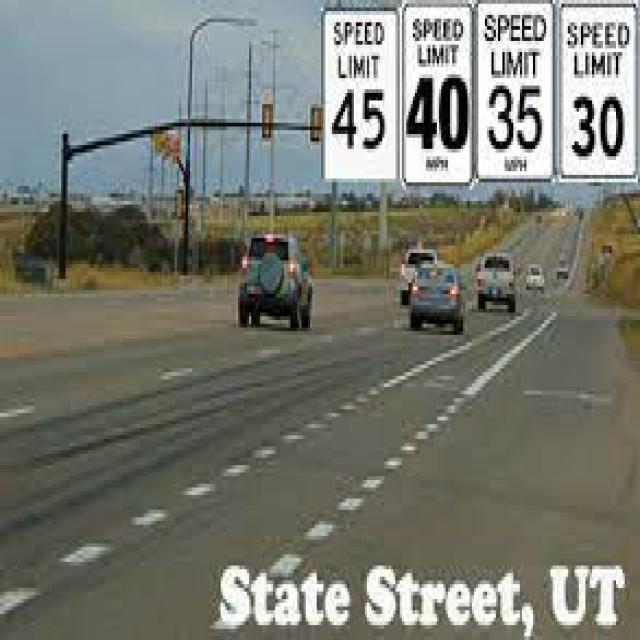speedLimit45: (321, 11, 400, 175)
